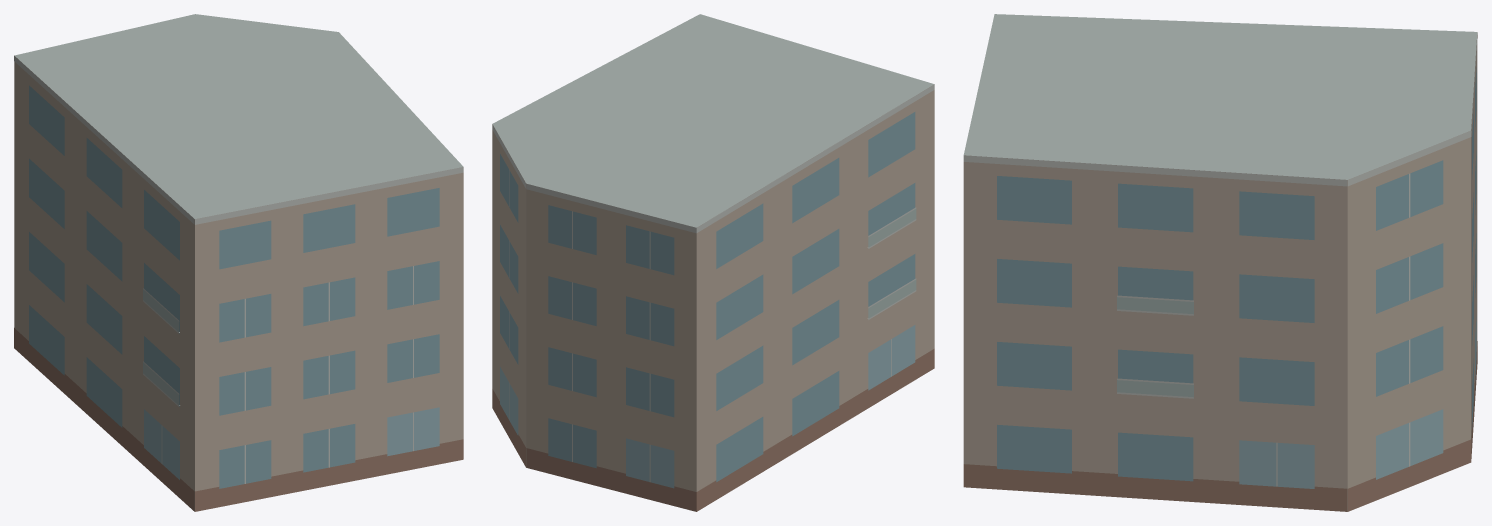
Rendered from survey-upis-32593894.glb.
The picture shows the model from 3 angles, left to right: view 1: azimuth 30°, elevation 25°; view 2: azimuth 150°, elevation 25°; view 3: azimuth 270°, elevation 25°; orthographic projection. The views are drawn at different scales.
Parts seen in each view (by area): view 1: survey-upis-32593894.tmp; view 2: survey-upis-32593894.tmp; view 3: survey-upis-32593894.tmp.
Boxes of the visible parts, x1,y1,x2,y2 form: survey-upis-32593894.tmp: [14, 14, 463, 511]; survey-upis-32593894.tmp: [492, 14, 934, 511]; survey-upis-32593894.tmp: [963, 14, 1477, 511].
Size of the model in its own units: 13.3 by 12.4 by 17.4.
